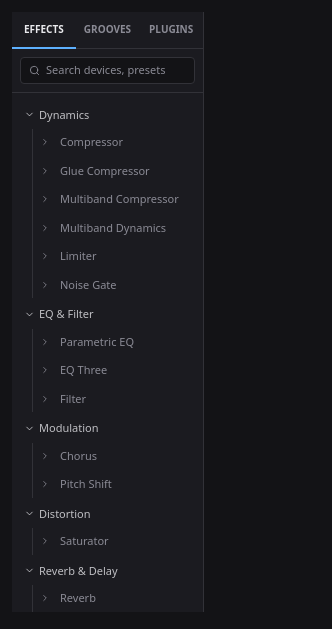
the Plugins tab › is a tab of the browser in the desktop app
Click the tab "Plugins".
click(171, 30)  # box [139, 12, 203, 49]
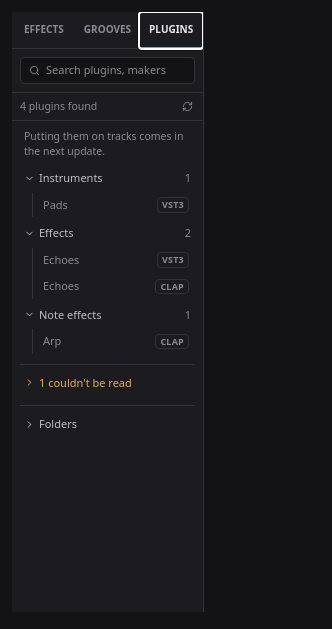
Expected: the text "4 plugins found" is shown, [20, 98, 97, 112]
